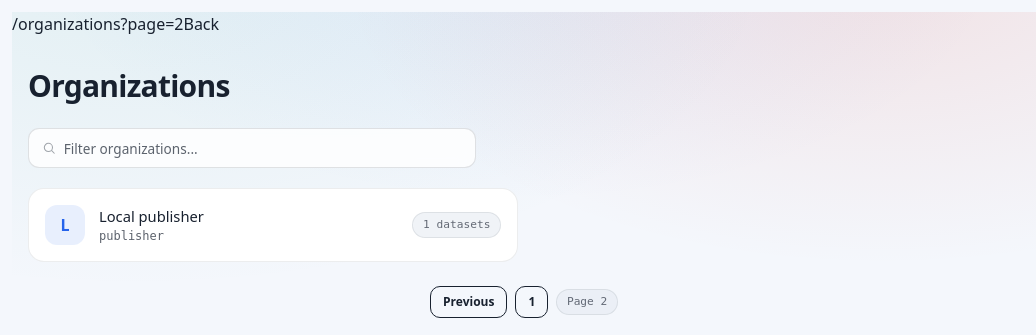
Test case: publisher filtering searches beyond the current page and uses buttons for filtered pagination
expect the text "Local publisher" is shown: met, box [99,206,204,226]
Step 1. Type "remote" into the field → x=263, y=148, box [64,129,462,167]
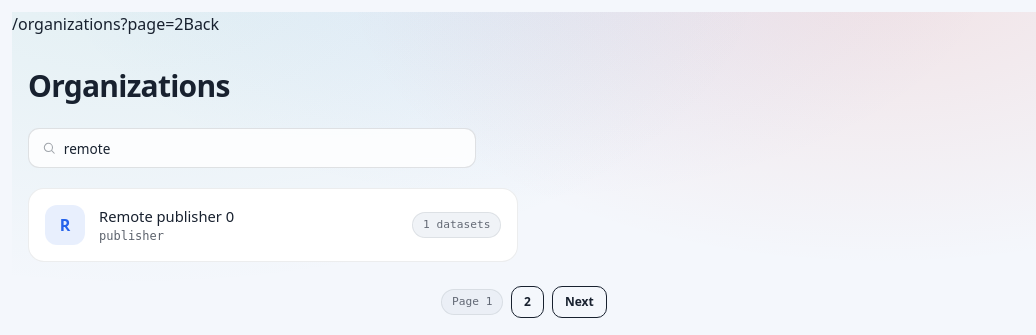
expect the text "Remote publisher 0" is shown: met, box [99,206,234,226]
Step 2. Click the button "Next" → x=579, y=302, box [552,286,607,318]
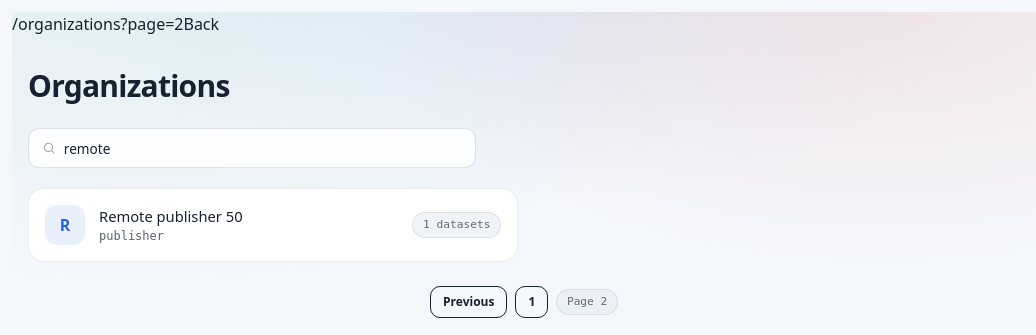
expect the text "Remote publisher 50" is shown: met, box [99,206,243,226]
